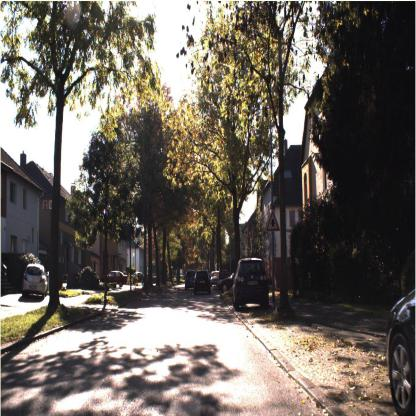danger: (265, 207, 281, 233)
